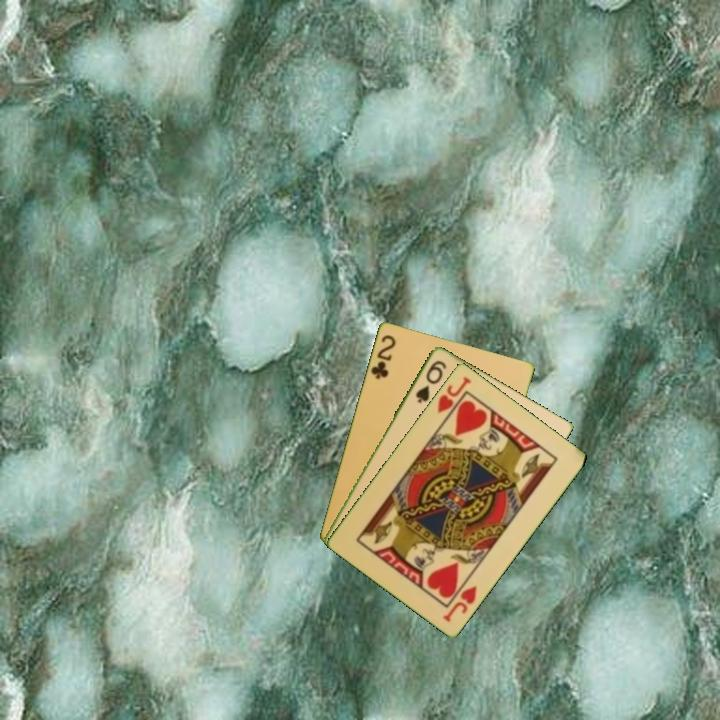2c: (367, 331, 398, 381)
6s: (412, 356, 449, 405)
Jh: (434, 373, 474, 425), (439, 582, 480, 624)
